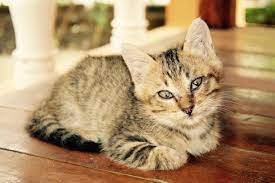cat: (55, 40, 245, 151)
